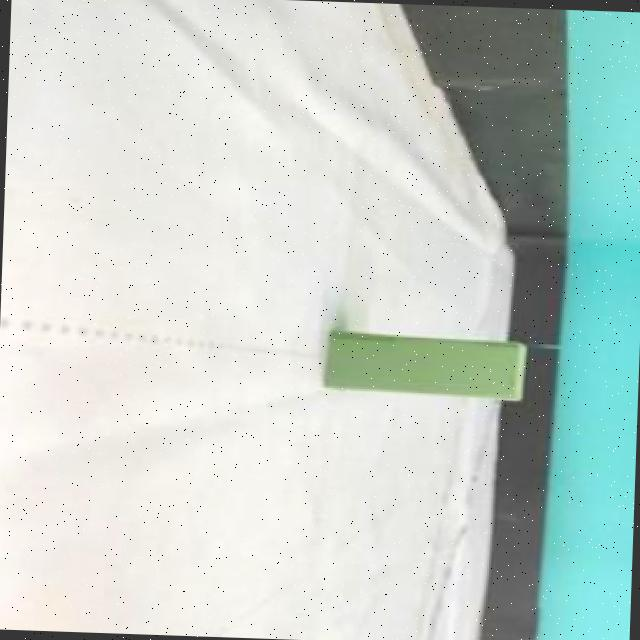greenbox: (323, 326, 527, 402)
